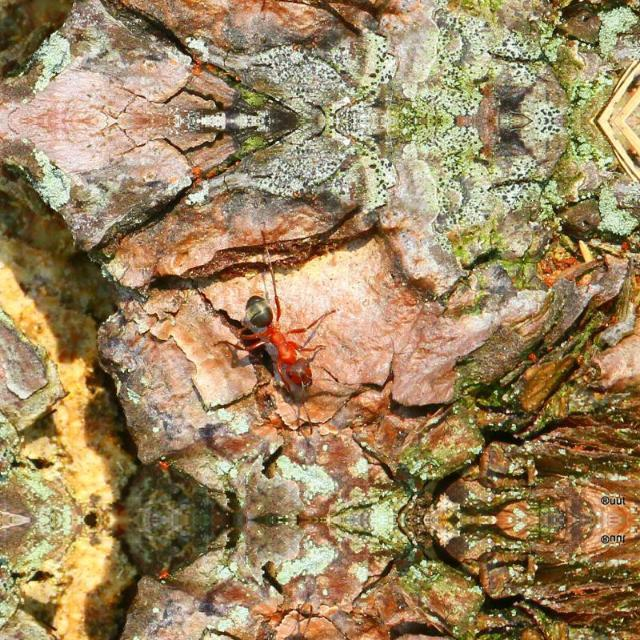Formica: (223, 280, 347, 404)
